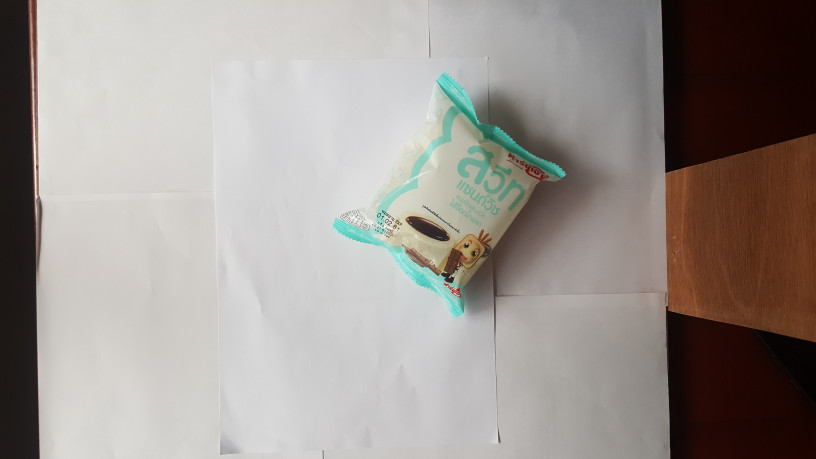farmhouse-sweetsandwich-chocolate: (328, 76, 566, 314)
